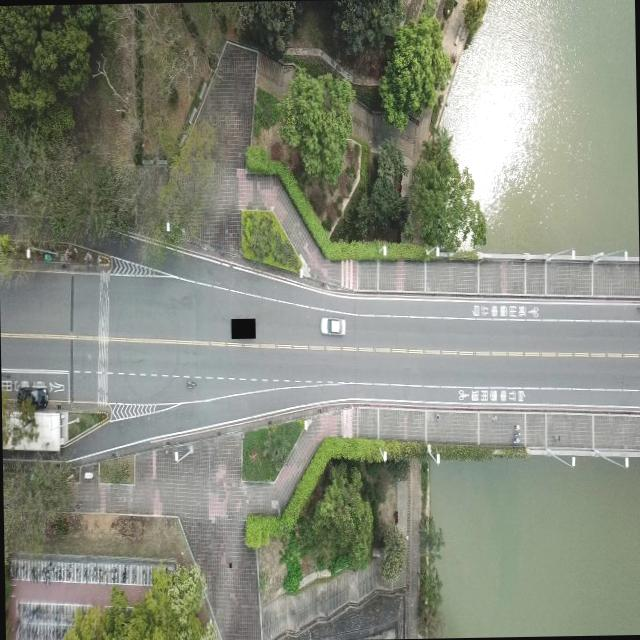bike: (184, 376, 197, 388)
car: (15, 384, 48, 410), (319, 315, 346, 337)
